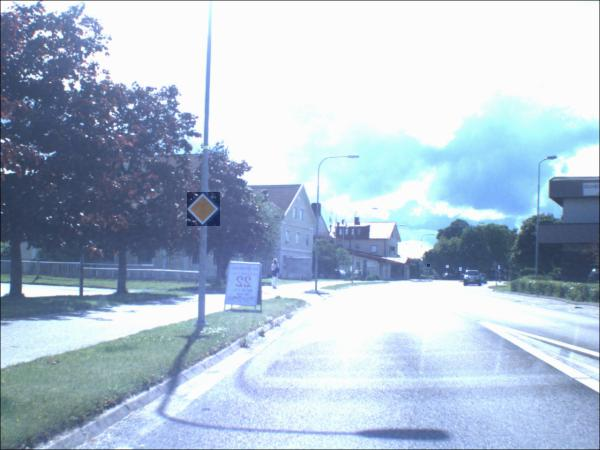PASS_RIGHT_SIDE: (459, 268, 463, 273)
PEDESTRIAN_CROSSING: (427, 265, 431, 269), (446, 266, 450, 270), (498, 266, 501, 271)
PRIORITY_ROAD: (187, 193, 221, 228)
